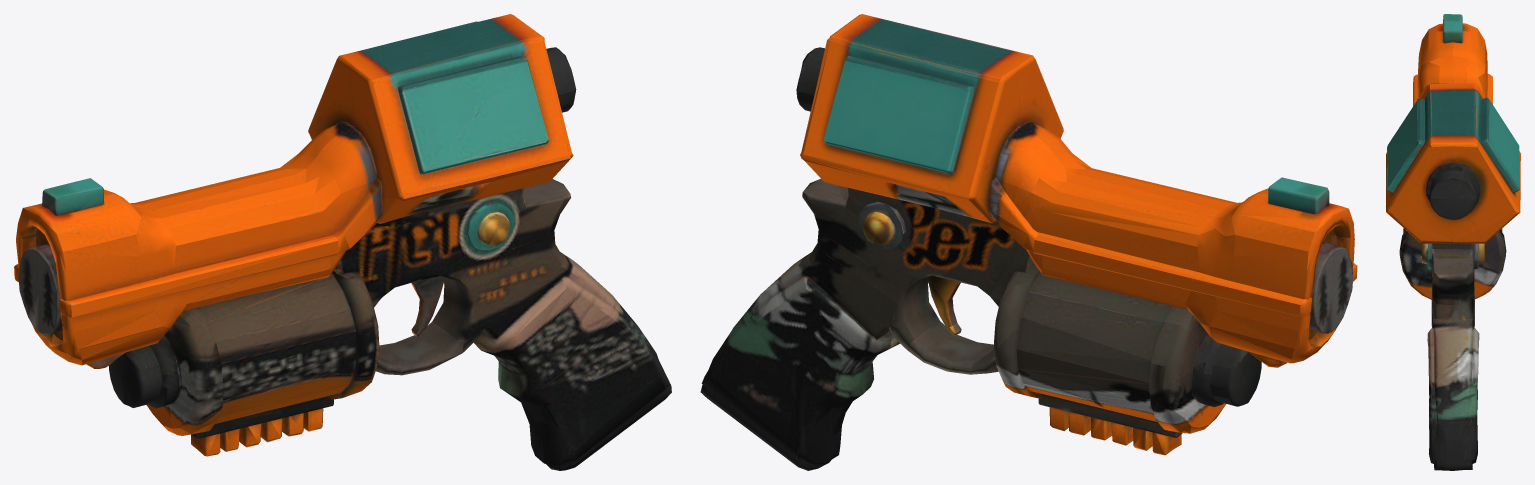
The model's file is sunflare-pistol.glb.
The picture shows the model from 3 angles, left to right: view 1: azimuth 30°, elevation 25°; view 2: azimuth 150°, elevation 25°; view 3: azimuth 270°, elevation 25°; orthographic projection. The views are drawn at different scales.
Bounding box in the file's own units: 1 × 0.6855 × 0.2627.
Materials: 1 (1 with a texture image).
